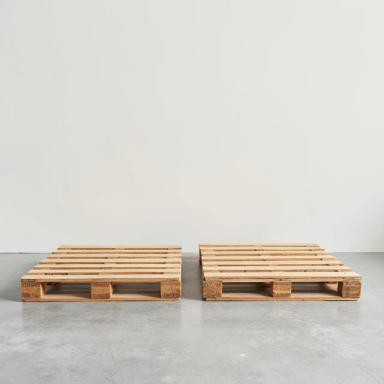pallet: (199, 243, 362, 301), (20, 244, 182, 301), (110, 283, 161, 300), (41, 282, 91, 298), (222, 282, 271, 293), (292, 282, 338, 292)
